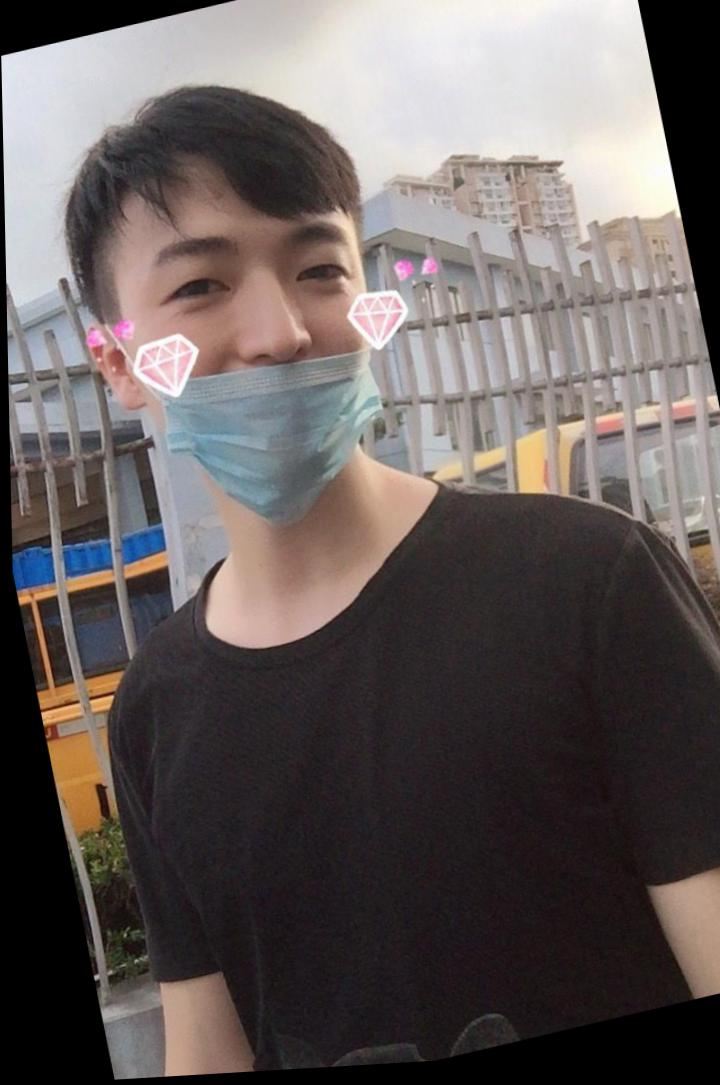WRONG: (110, 176, 408, 534)
